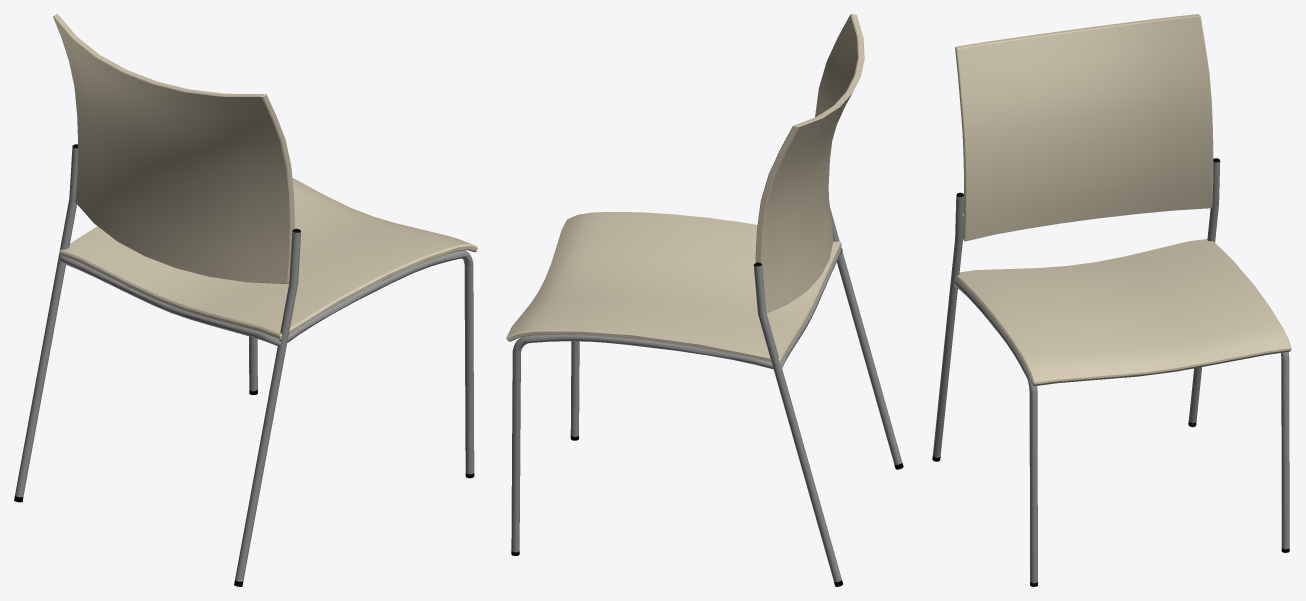
File: wooden-chairV2.fbx
The picture shows the model from 3 angles, left to right: view 1: azimuth 30°, elevation 25°; view 2: azimuth 150°, elevation 25°; view 3: azimuth 270°, elevation 25°; orthographic projection. The views are drawn at different scales.
Visible parts, largest first — view 1: Seating - Chair - interstuhl Cobra; view 2: Seating - Chair - interstuhl Cobra; view 3: Seating - Chair - interstuhl Cobra.
Boxes of the visible parts, bbox=[...] form: Seating - Chair - interstuhl Cobra: bbox=[14, 14, 477, 586]; Seating - Chair - interstuhl Cobra: bbox=[506, 14, 903, 586]; Seating - Chair - interstuhl Cobra: bbox=[932, 14, 1291, 586].
Size of the model in its own units: 70.14 by 84.65 by 64.24.
